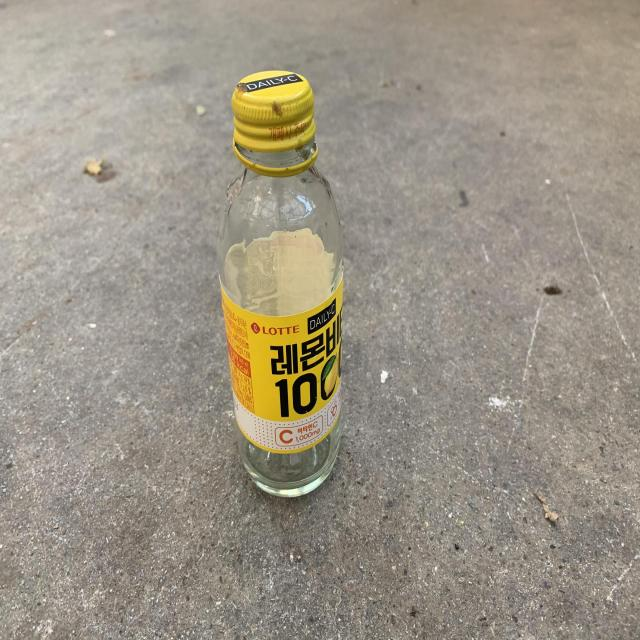glass: (218, 68, 343, 497)
